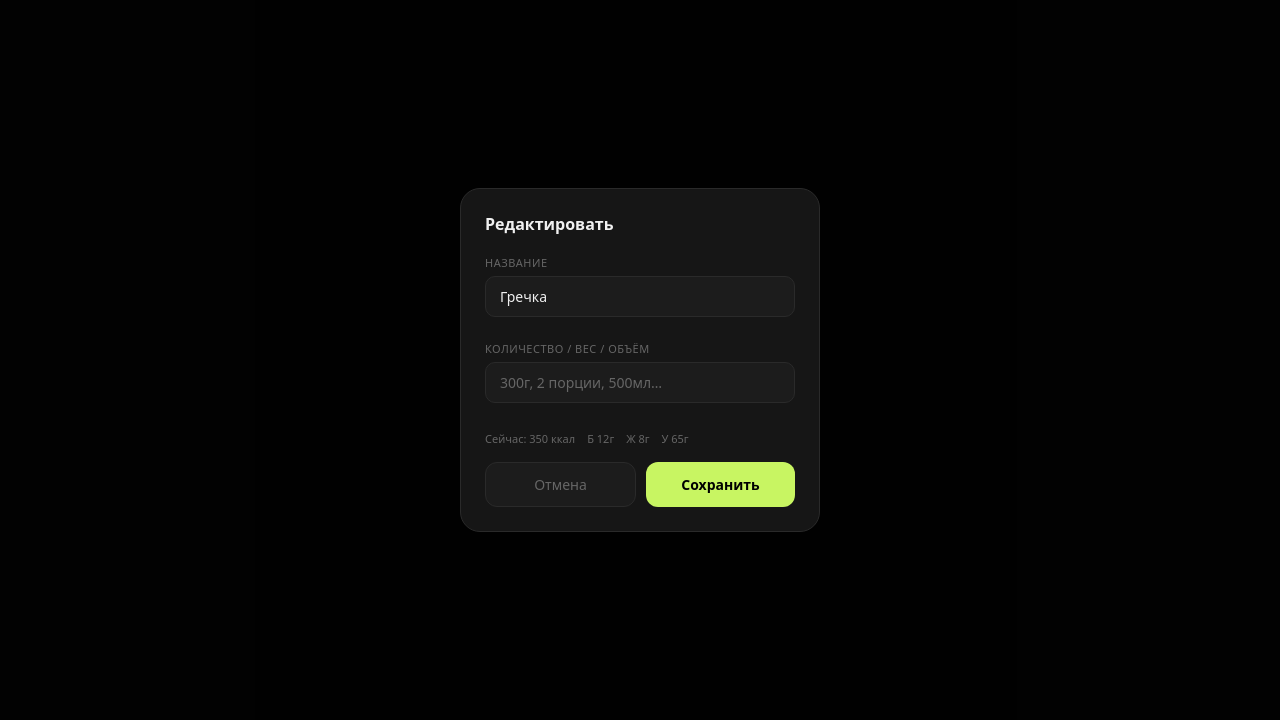
Test case: EditMealModal › отображает ошибку если /api/claude вернул ошибку
Click the button "Сохранить" at x=720, y=484, box [646,462,795,507]
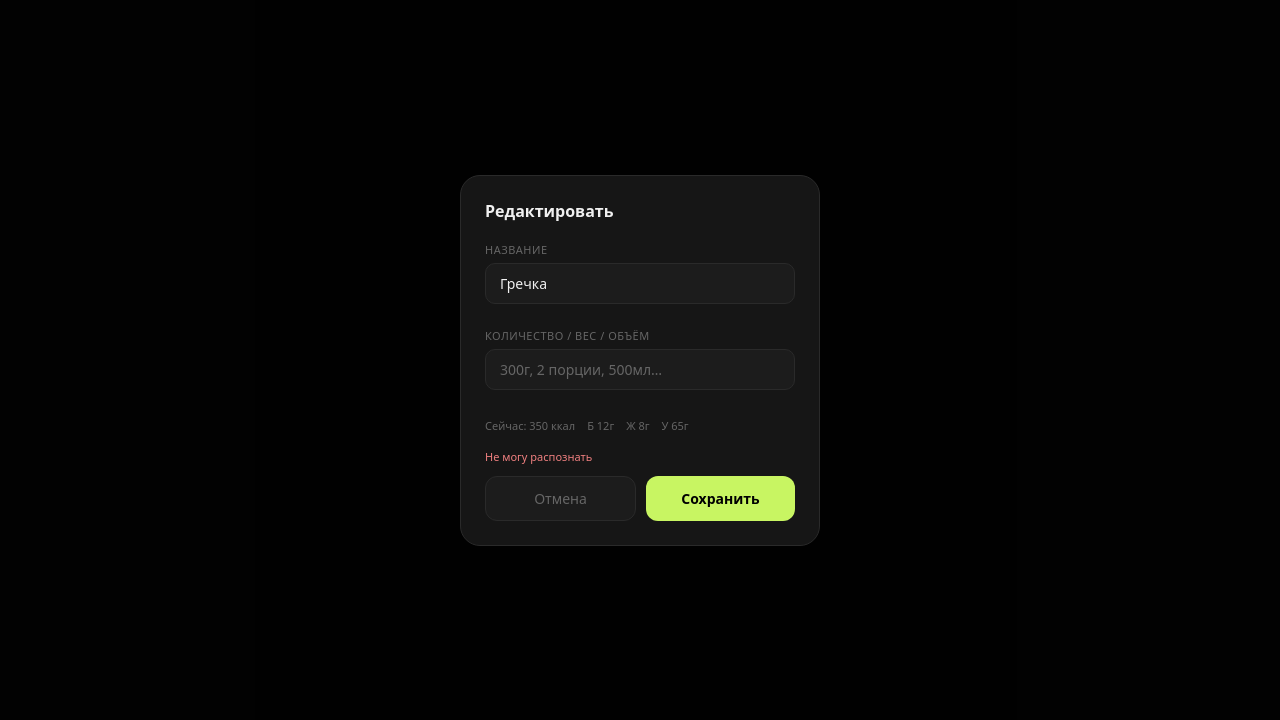
Expected: the text "Не могу распознать" is shown, [485,448,592,464]
